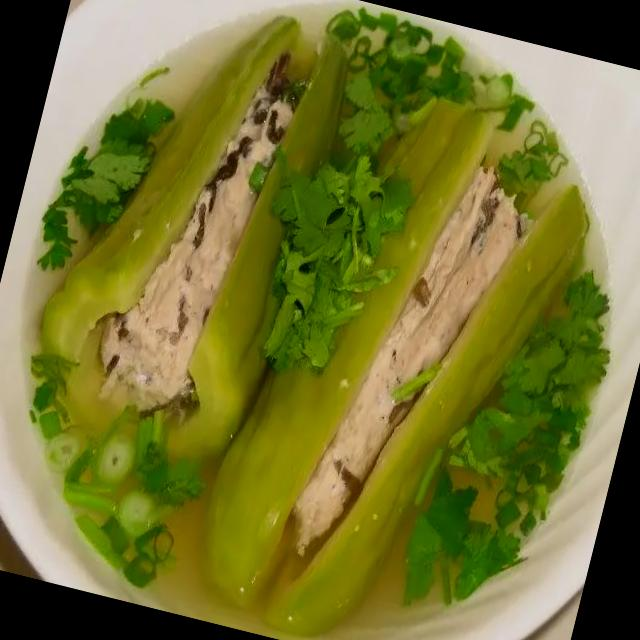kho qua: (209, 101, 587, 630), (41, 16, 344, 454)
